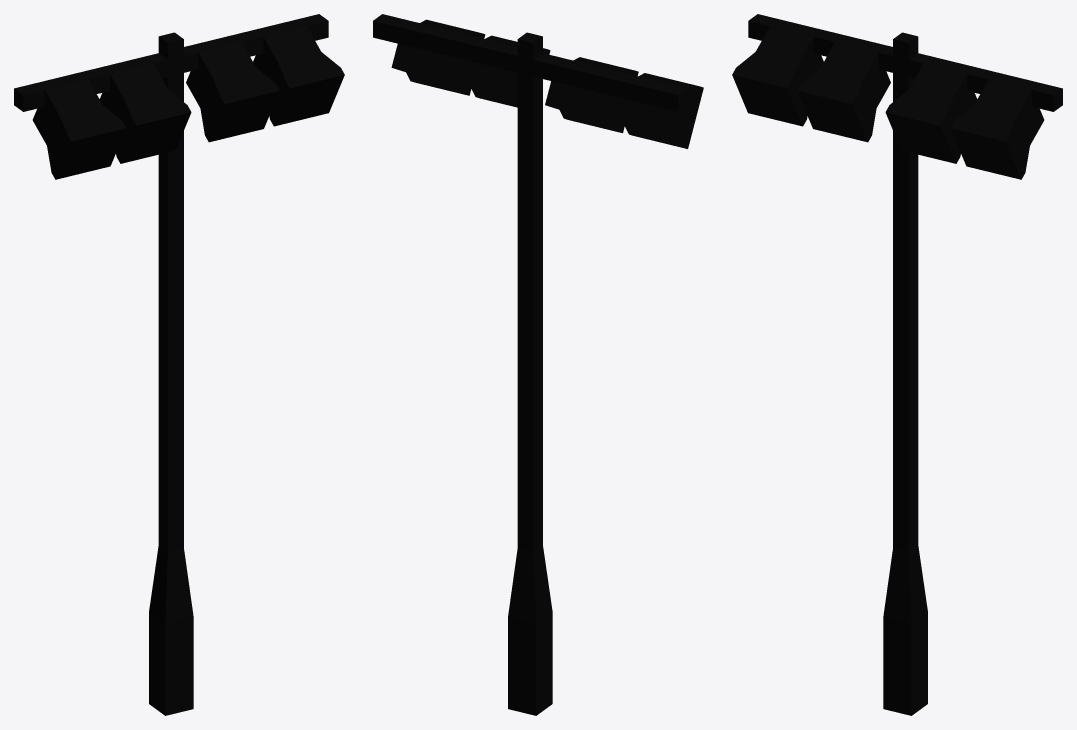
File: lightPostLarge.glb
The picture shows the model from 3 angles, left to right: view 1: azimuth 30°, elevation 25°; view 2: azimuth 150°, elevation 25°; view 3: azimuth 330°, elevation 25°; orthographic projection.
Parts seen in each view (by area): view 1: Mesh lightPostLarge; view 2: Mesh lightPostLarge; view 3: Mesh lightPostLarge.
Part boxes in pixels (x1=…): Mesh lightPostLarge: x1=14, y1=14, x2=344, y2=715; Mesh lightPostLarge: x1=373, y1=14, x2=703, y2=715; Mesh lightPostLarge: x1=732, y1=14, x2=1062, y2=715.
Bounding box in the file's own units: 0.38 × 0.7957 × 0.097.
1 material, 1 textured.
